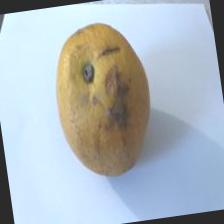Orange Rotten: (34, 11, 170, 190)
